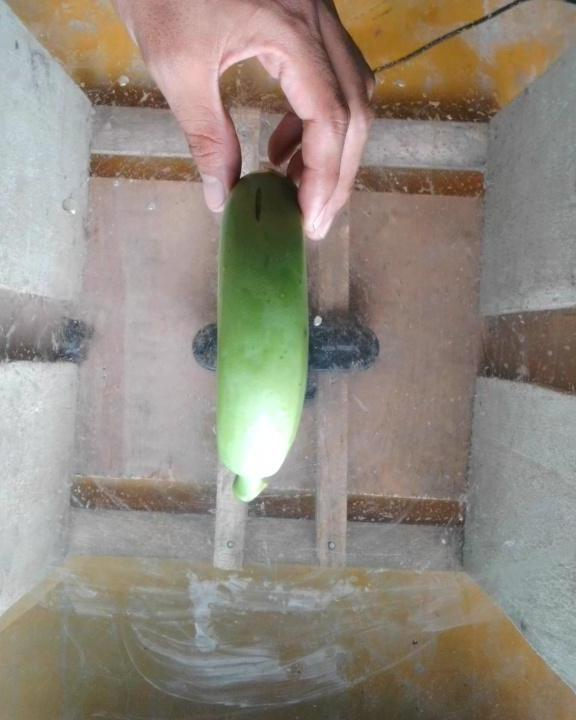CLASS B: (212, 168, 337, 518)
Class A: (241, 174, 274, 228)
